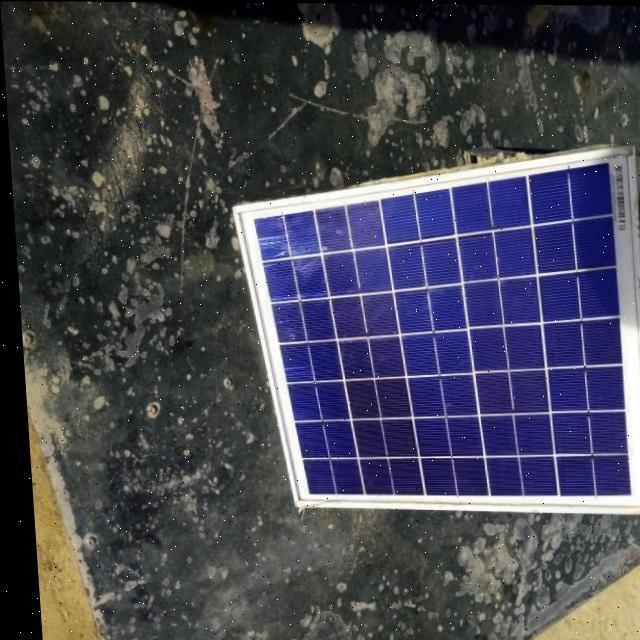Normal Solar Panel: (229, 144, 640, 508)
